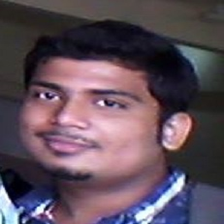no_mask: (28, 55, 161, 177)
